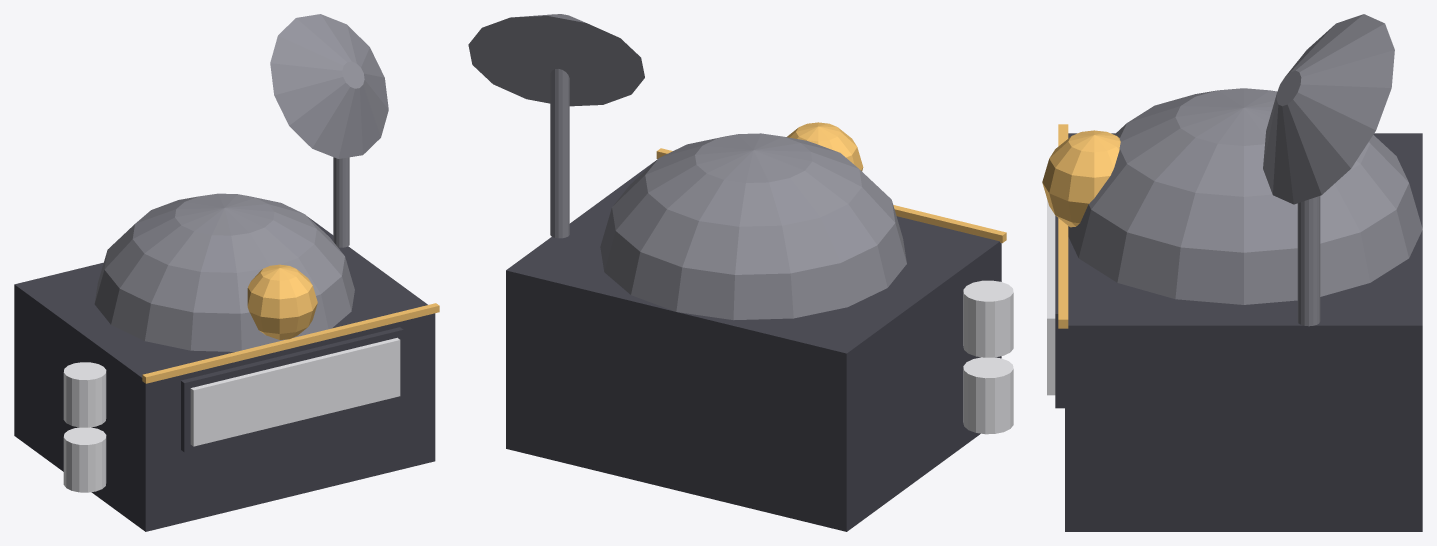
Rendered from shop_id_lab.fbx.
The picture shows the model from 3 angles, left to right: view 1: azimuth 30°, elevation 25°; view 2: azimuth 150°, elevation 25°; view 3: azimuth 270°, elevation 25°; orthographic projection. The views are drawn at different scales.
Visible parts, largest first — view 1: IL_Base__Shop_Dark, IL_Dome__Shop_Metal, IL_Dish__Shop_Metal, IL_Sign__Shop_Sign, IL_Eye__Shop_Neon, IL_SignFrame__Shop_Dark, IL_BaseTrim__Shop_Neon, IL_Tube1__Shop_Sign, IL_Tube2__Shop_Sign, IL_Mast__Shop_Metal; view 2: IL_Base__Shop_Dark, IL_Dome__Shop_Metal, IL_Dish__Shop_Metal, IL_Tube2__Shop_Sign, IL_Tube1__Shop_Sign, IL_Mast__Shop_Metal, IL_Eye__Shop_Neon, IL_BaseTrim__Shop_Neon; view 3: IL_Base__Shop_Dark, IL_Dome__Shop_Metal, IL_Dish__Shop_Metal, IL_Eye__Shop_Neon, IL_Mast__Shop_Metal, IL_Sign__Shop_Sign, IL_BaseTrim__Shop_Neon, IL_SignFrame__Shop_Dark.
Boxes of the visible parts, <box> form: IL_Base__Shop_Dark: <box>14,216,435,531</box>; IL_Dome__Shop_Metal: <box>94,193,354,351</box>; IL_Dish__Shop_Metal: <box>270,14,388,158</box>; IL_Sign__Shop_Sign: <box>190,337,400,446</box>; IL_Eye__Shop_Neon: <box>247,264,317,339</box>; IL_SignFrame__Shop_Dark: <box>181,327,403,452</box>; IL_BaseTrim__Shop_Neon: <box>142,303,439,383</box>; IL_Tube1__Shop_Sign: <box>63,427,106,492</box>; IL_Tube2__Shop_Sign: <box>63,362,106,427</box>; IL_Mast__Shop_Metal: <box>333,157,349,247</box>; IL_Base__Shop_Dark: <box>506,160,1001,531</box>; IL_Dome__Shop_Metal: <box>600,133,906,320</box>; IL_Dish__Shop_Metal: <box>468,14,644,106</box>; IL_Tube2__Shop_Sign: <box>963,280,1013,357</box>; IL_Tube1__Shop_Sign: <box>963,357,1013,434</box>; IL_Mast__Shop_Metal: <box>550,69,569,238</box>; IL_Eye__Shop_Neon: <box>787,122,863,170</box>; IL_BaseTrim__Shop_Neon: <box>656,148,1006,243</box>; IL_Base__Shop_Dark: <box>1065,133,1422,531</box>; IL_Dome__Shop_Metal: <box>1068,88,1422,304</box>; IL_Dish__Shop_Metal: <box>1263,14,1394,204</box>; IL_Eye__Shop_Neon: <box>1042,130,1120,227</box>; IL_Mast__Shop_Metal: <box>1297,196,1320,326</box>; IL_Sign__Shop_Sign: <box>1047,199,1055,395</box>; IL_BaseTrim__Shop_Neon: <box>1058,124,1068,328</box>; IL_SignFrame__Shop_Dark: <box>1055,216,1064,408</box>.
Bounding box in the file's own units: 18.75 × 16.76 × 11.7.
